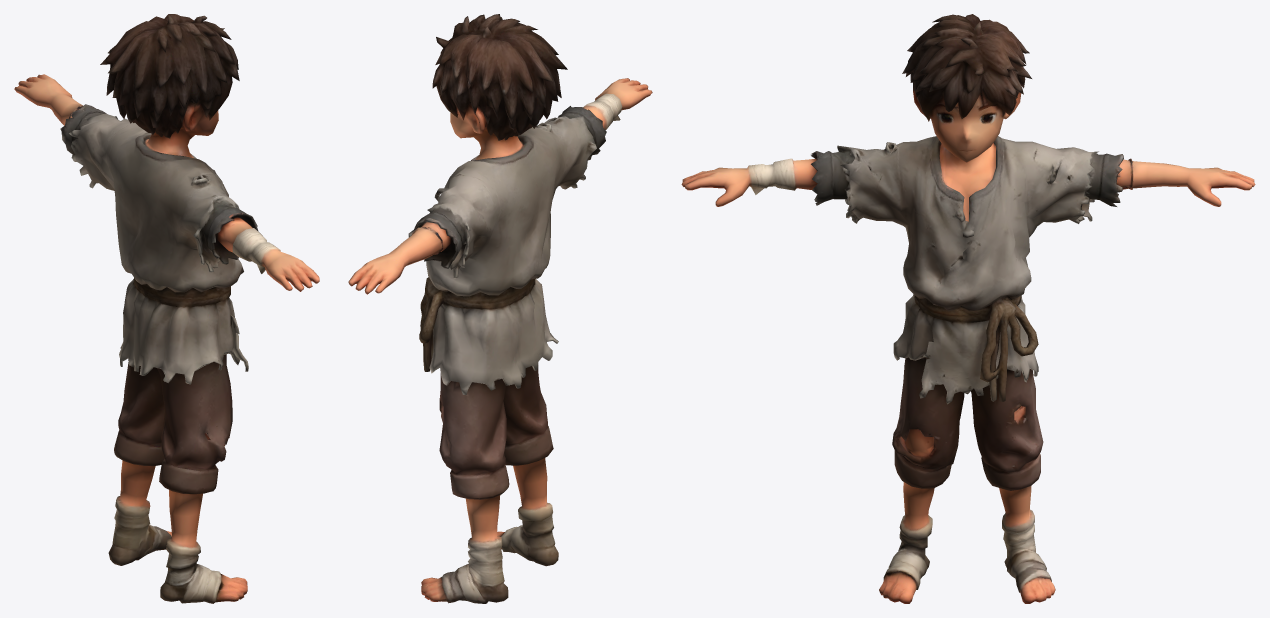
The picture shows the model from 3 angles, left to right: view 1: azimuth 30°, elevation 25°; view 2: azimuth 150°, elevation 25°; view 3: azimuth 270°, elevation 25°; orthographic projection.
Visible parts, largest first — view 1: tripo_node_d041b71f-9a69-47ae-b419-9cf6e750b73d; view 2: tripo_node_d041b71f-9a69-47ae-b419-9cf6e750b73d; view 3: tripo_node_d041b71f-9a69-47ae-b419-9cf6e750b73d.
Part boxes in pixels (bbox=[...]): tripo_node_d041b71f-9a69-47ae-b419-9cf6e750b73d: bbox=[14, 14, 319, 603]; tripo_node_d041b71f-9a69-47ae-b419-9cf6e750b73d: bbox=[348, 14, 652, 603]; tripo_node_d041b71f-9a69-47ae-b419-9cf6e750b73d: bbox=[681, 14, 1255, 603].
Size of the model in its own units: 0.2402 by 0.998 by 0.9199.
Materials: 1 (1 with a texture image).
